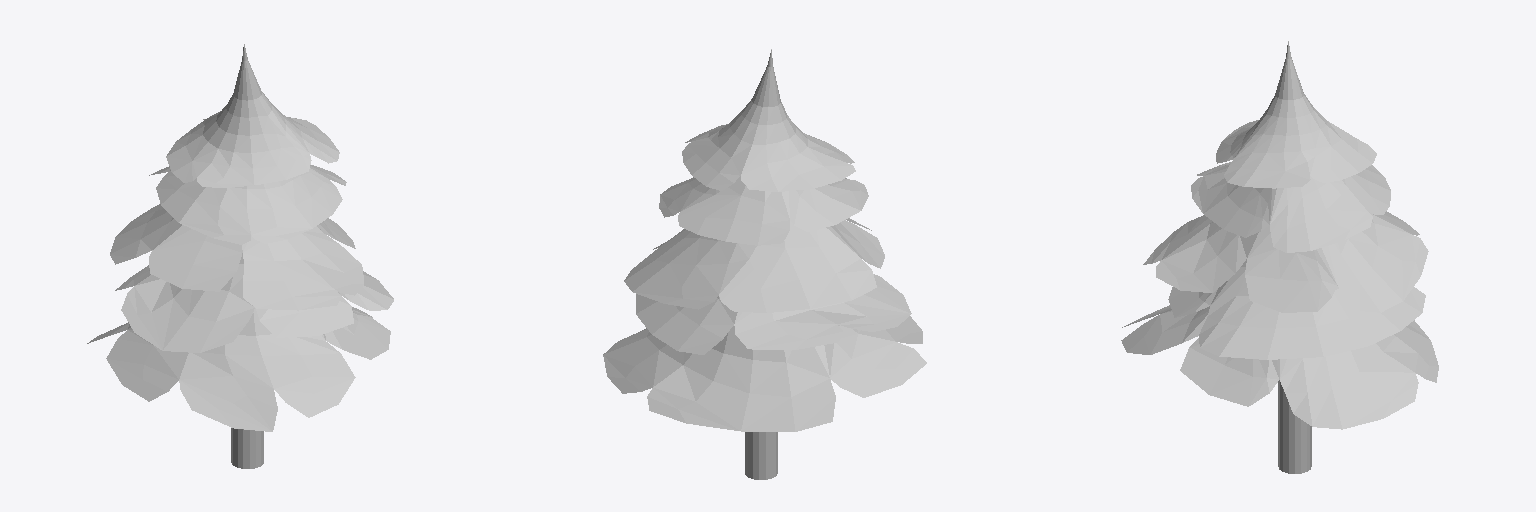
The model's file is tree.obj.
3 views of the same model, side by side, from view 1: azimuth 30°, elevation 25°; view 2: azimuth 150°, elevation 25°; view 3: azimuth 270°, elevation 25° (orthographic).
Visible parts, largest first — view 1: Mesh.1, Mesh; view 2: Mesh.1, Mesh; view 3: Mesh.1, Mesh.
Part boxes in pixels (x1,y1,x2,y2): Mesh.1: (87, 44, 393, 431); Mesh: (231, 428, 263, 468); Mesh.1: (603, 49, 926, 431); Mesh: (745, 432, 777, 479); Mesh.1: (1121, 41, 1438, 429); Mesh: (1278, 380, 1311, 473).
Size of the model in its own units: 1126 by 1702 by 1160.